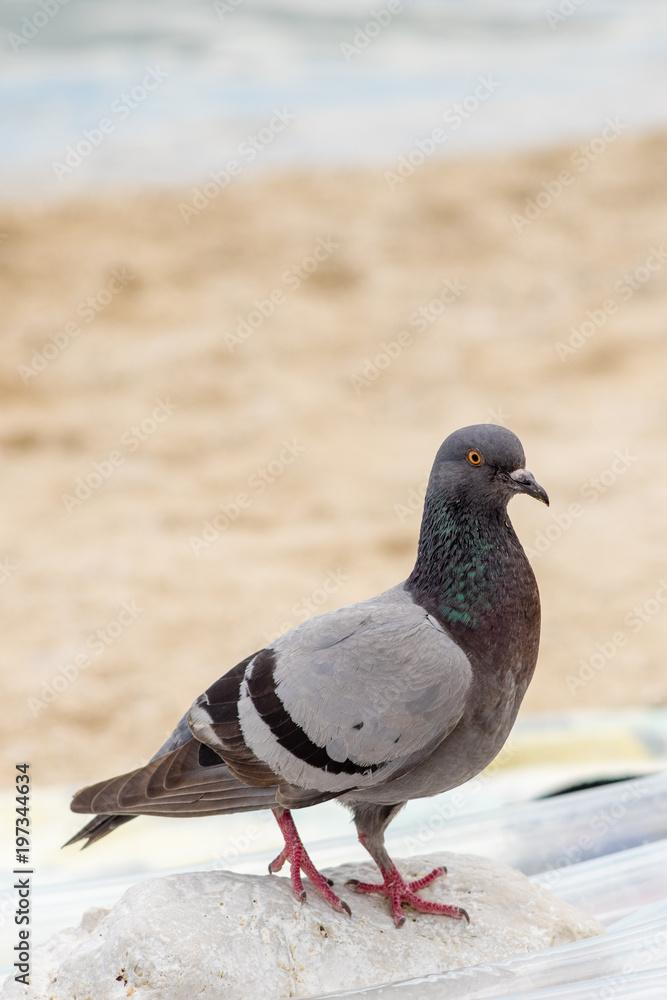Flying Rat: (47, 404, 585, 944)
